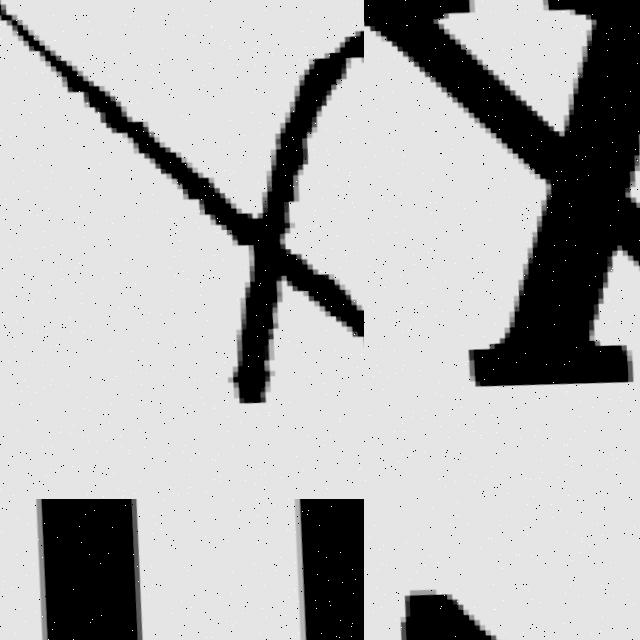N: (0, 499, 364, 640), (364, 552, 640, 640)
X: (0, 0, 364, 453), (364, 0, 640, 428)
